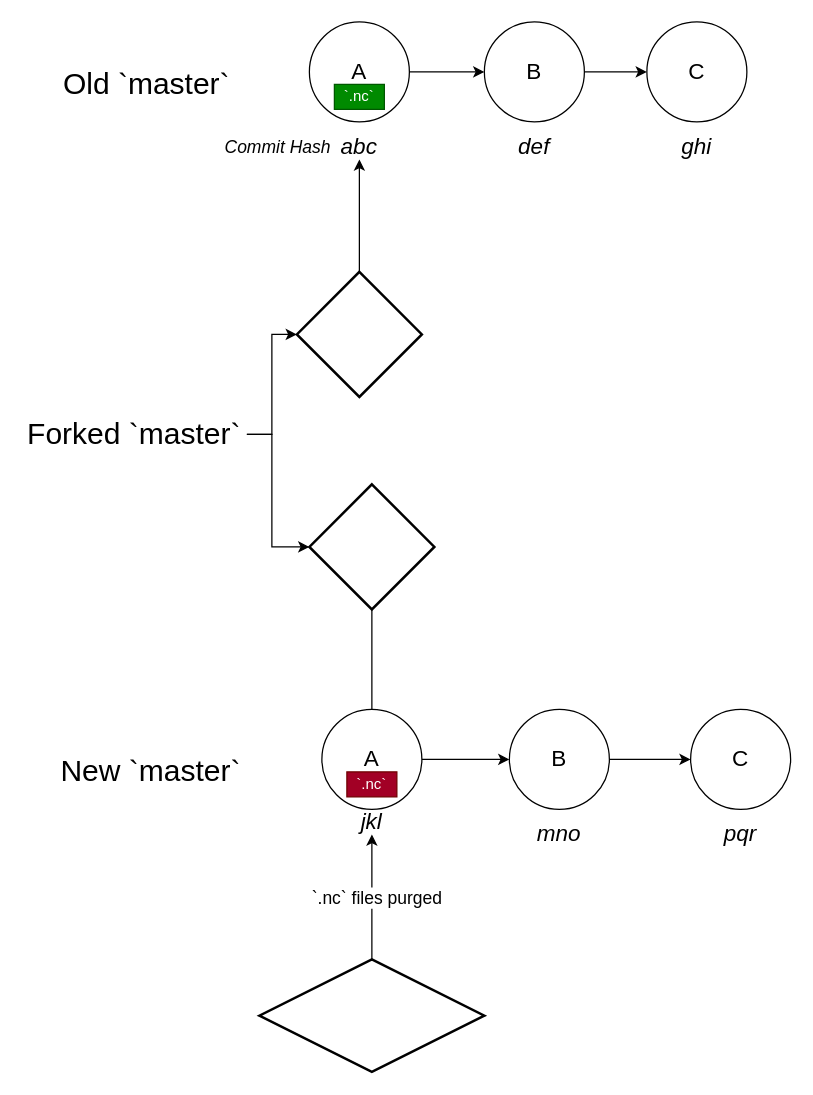
The diagram is 813 pixels wide and 1095 high, and some of its shapes have lost their labels. The shapes that lost their labels are listed below. From the top down, each one's centre as x and y in pixels, then its label:
At [358,334]: "Original Fork".
At [371,546]: "Rebase".
At [371,1015]: "Run bfg-repo-cleaner".
